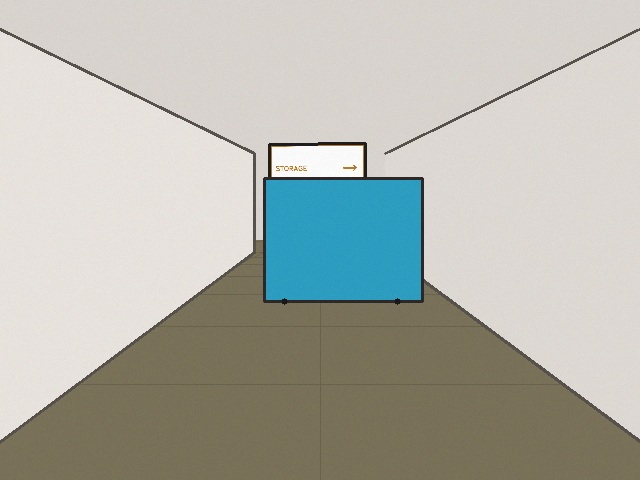cart: (264, 178, 422, 301)
directional_sign: (269, 143, 365, 192)
